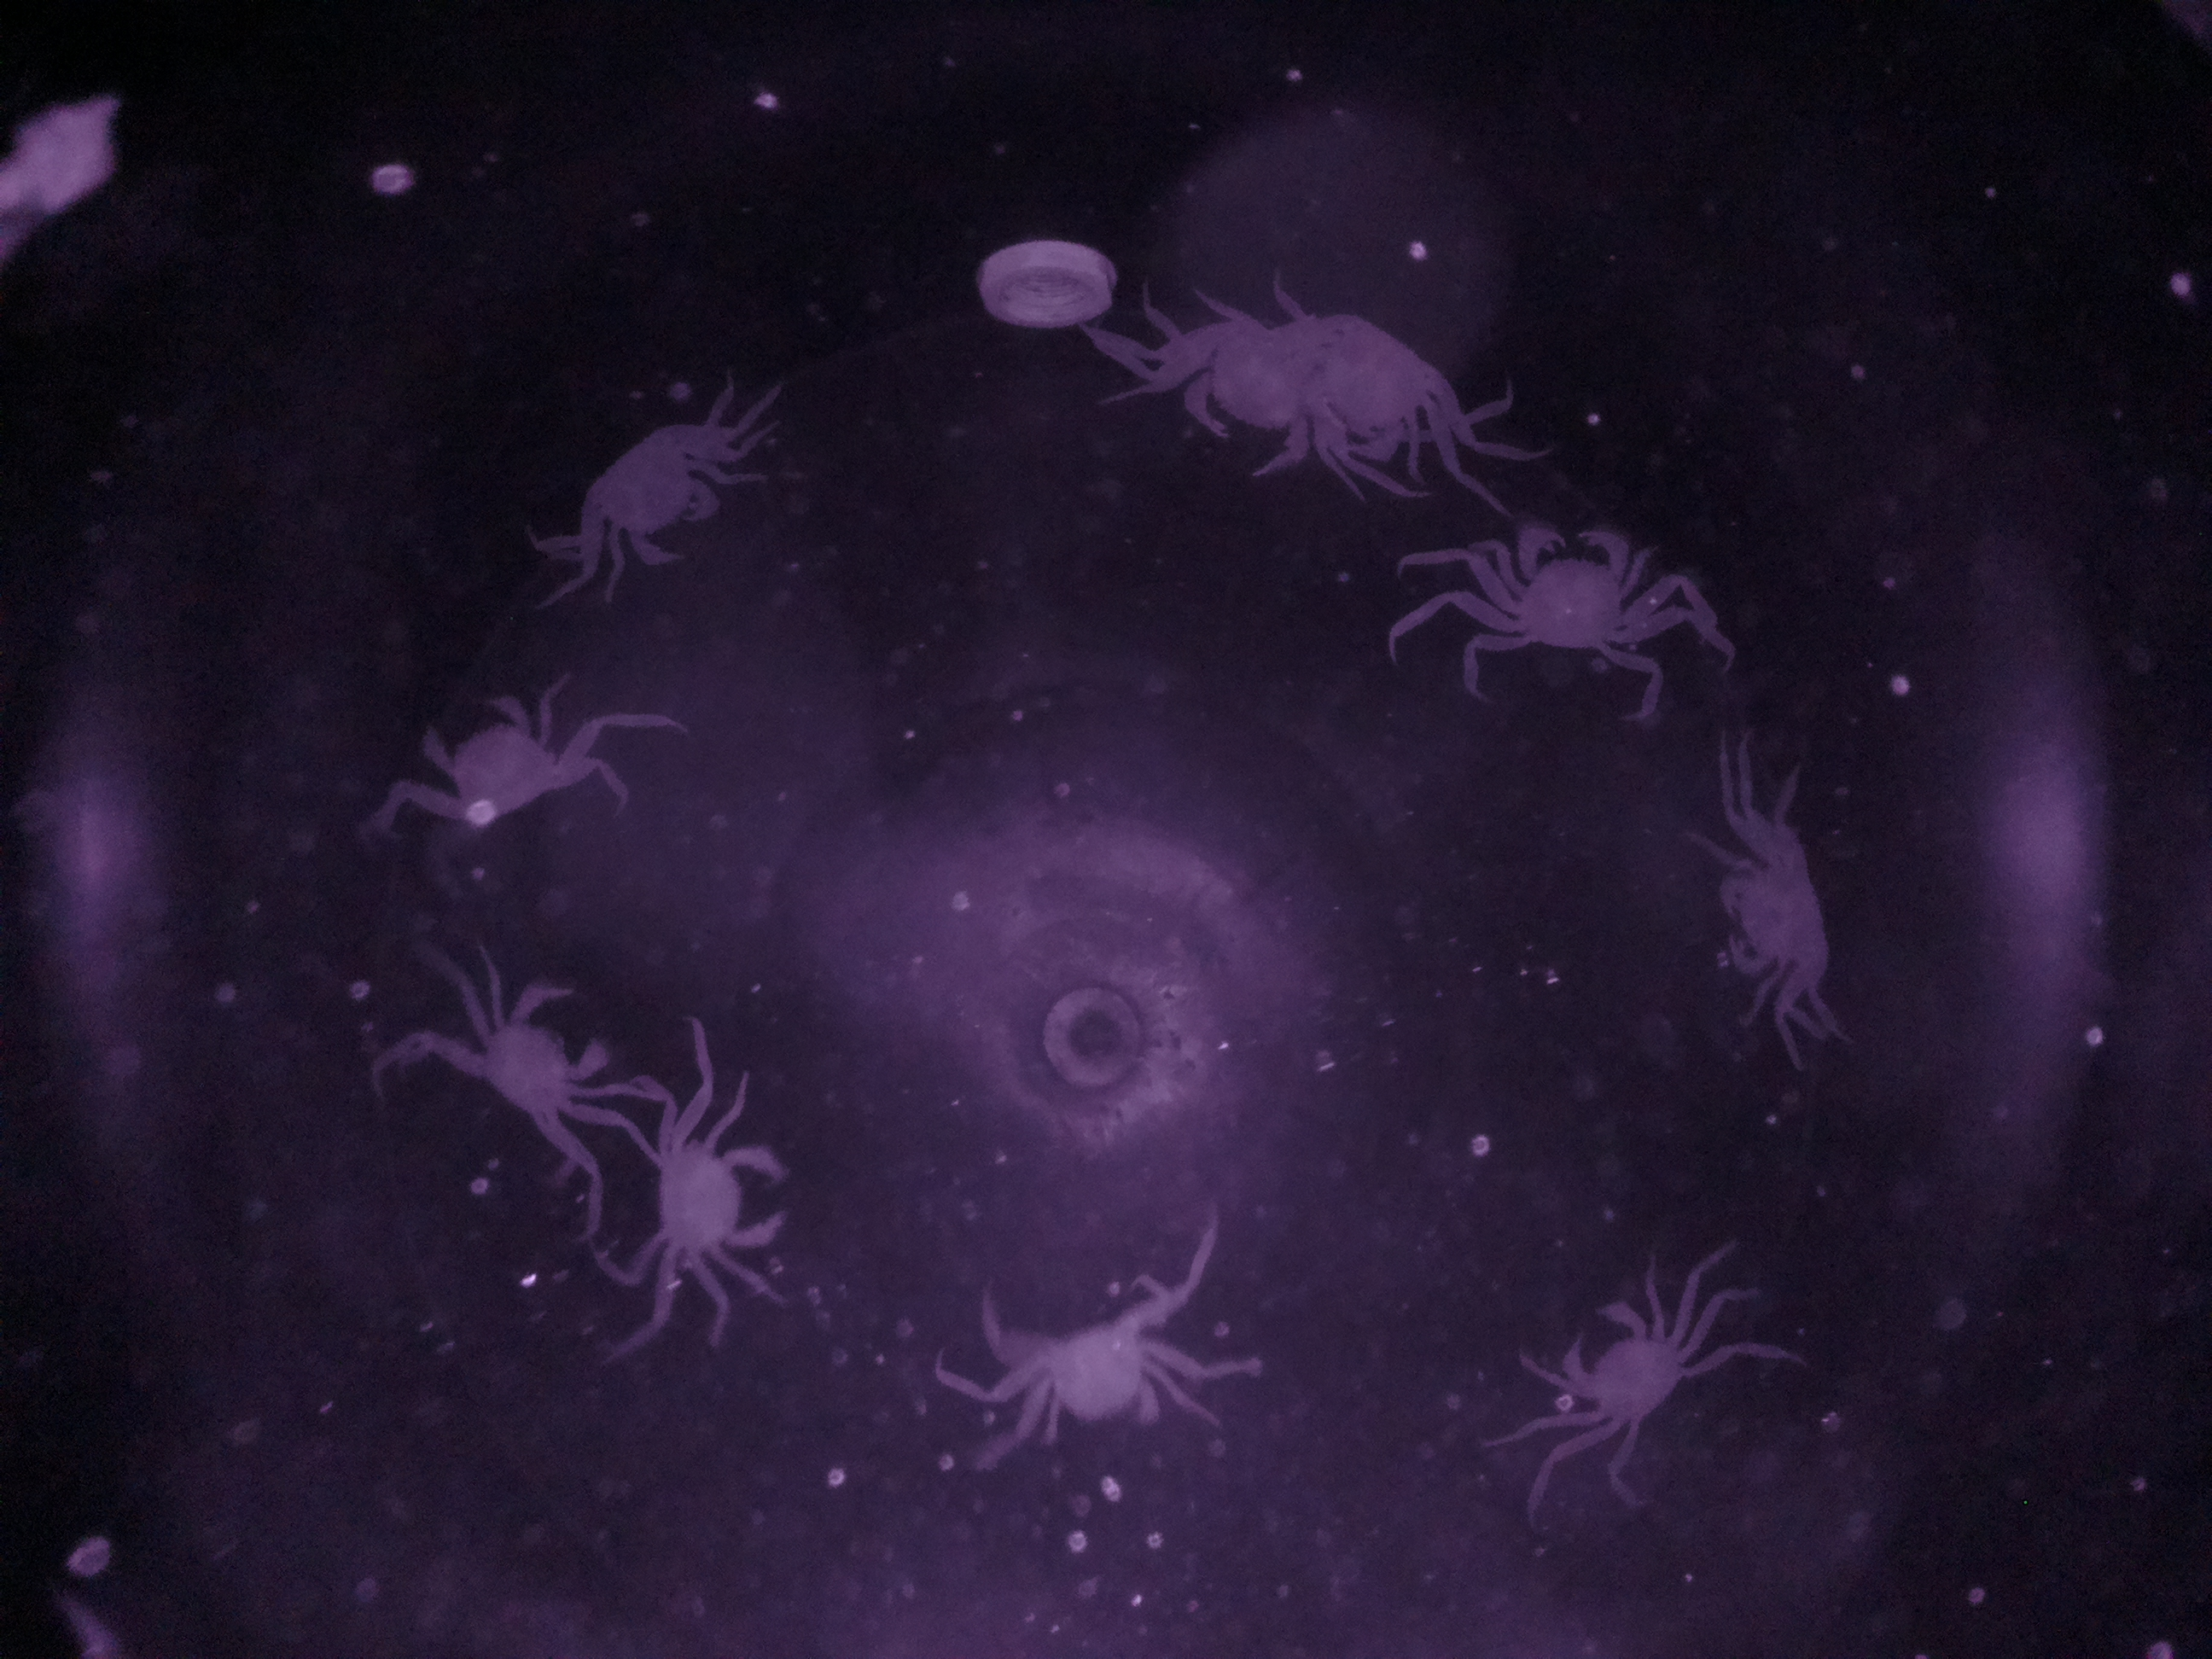Crab: (1451, 509, 1672, 659), (1538, 1279, 1709, 1460), (462, 964, 613, 1161), (575, 406, 733, 584), (631, 1127, 801, 1265)
